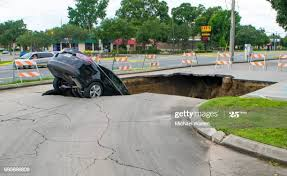pothole: (130, 72, 281, 100)
